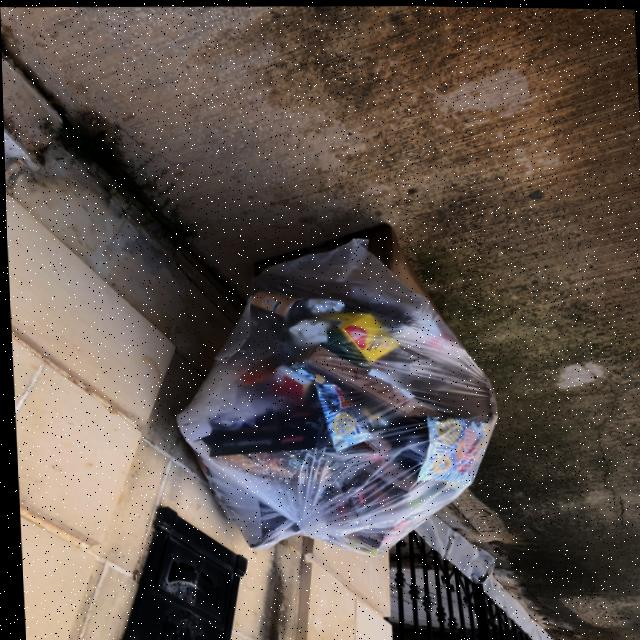Organic Waste -White Bag-: (163, 227, 502, 561)
